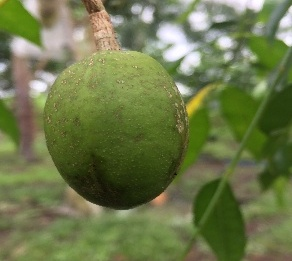Coc: (44, 51, 190, 212)
